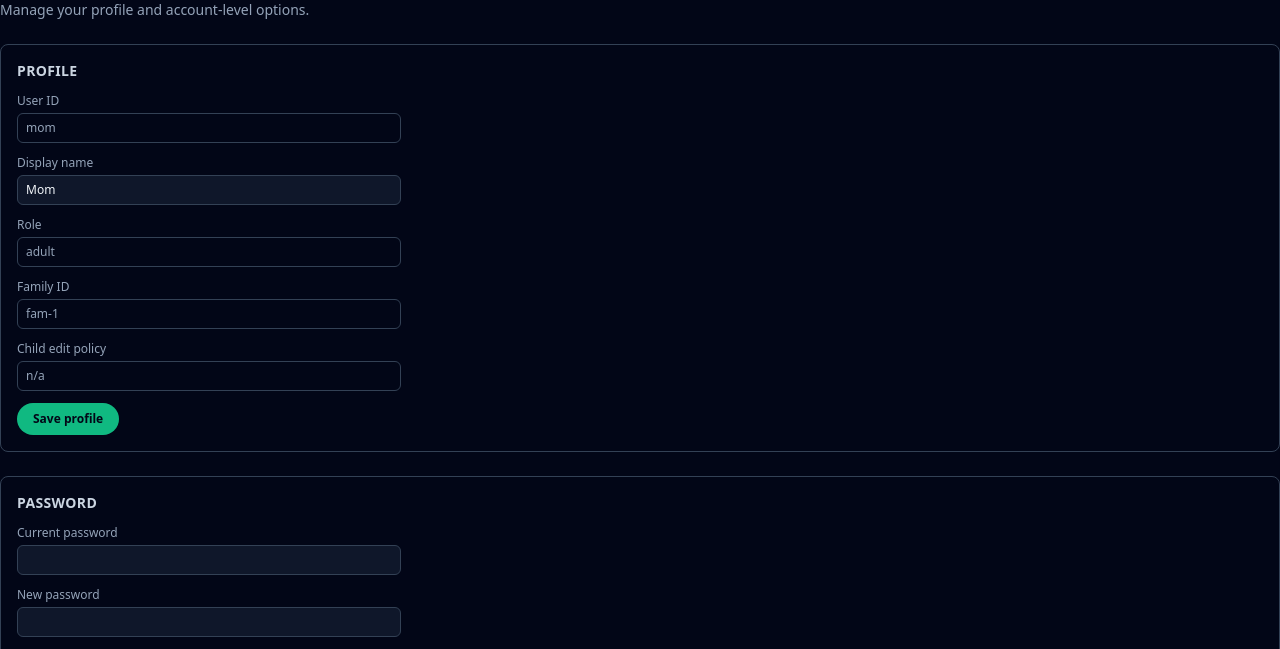
AccountPage › supports password updates with matching confirmation
This screenshot has width=1280, height=649.
Expected: the field showing "mom" is shown, x1=17 y1=113 x2=401 y2=143
Step 1. Type "oldpass" into the password field labelled "Current password" → (209, 560), box x1=17 y1=545 x2=401 y2=575
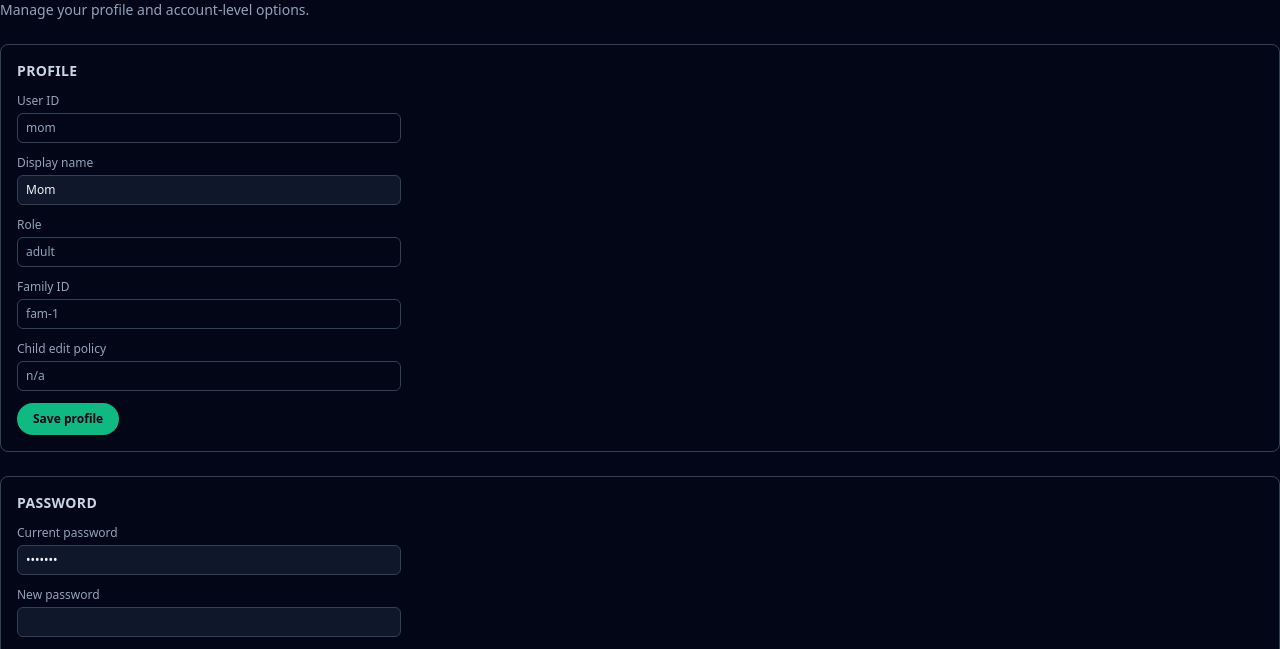
Step 2. Type "newpassword" into the password field labelled "New password" → (209, 622), box x1=17 y1=607 x2=401 y2=637
(page scrolled)
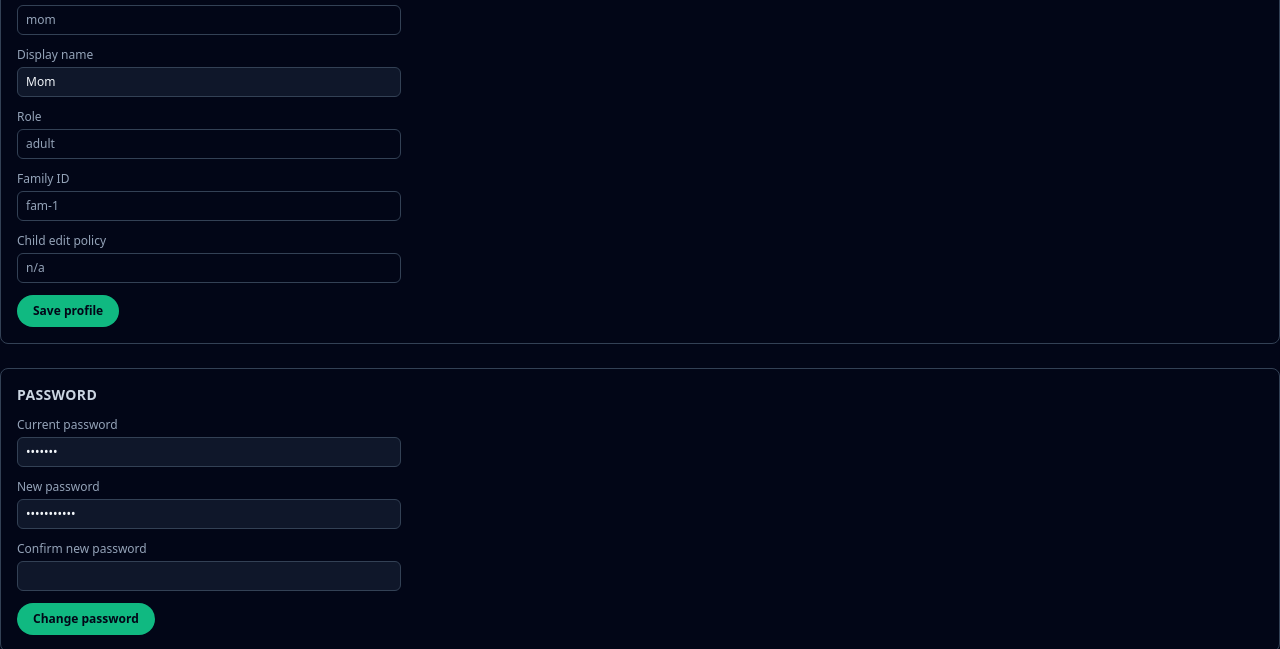
Step 3. Type "newpassword" into the password field labelled "Confirm new password" → (209, 576), box x1=17 y1=561 x2=401 y2=591
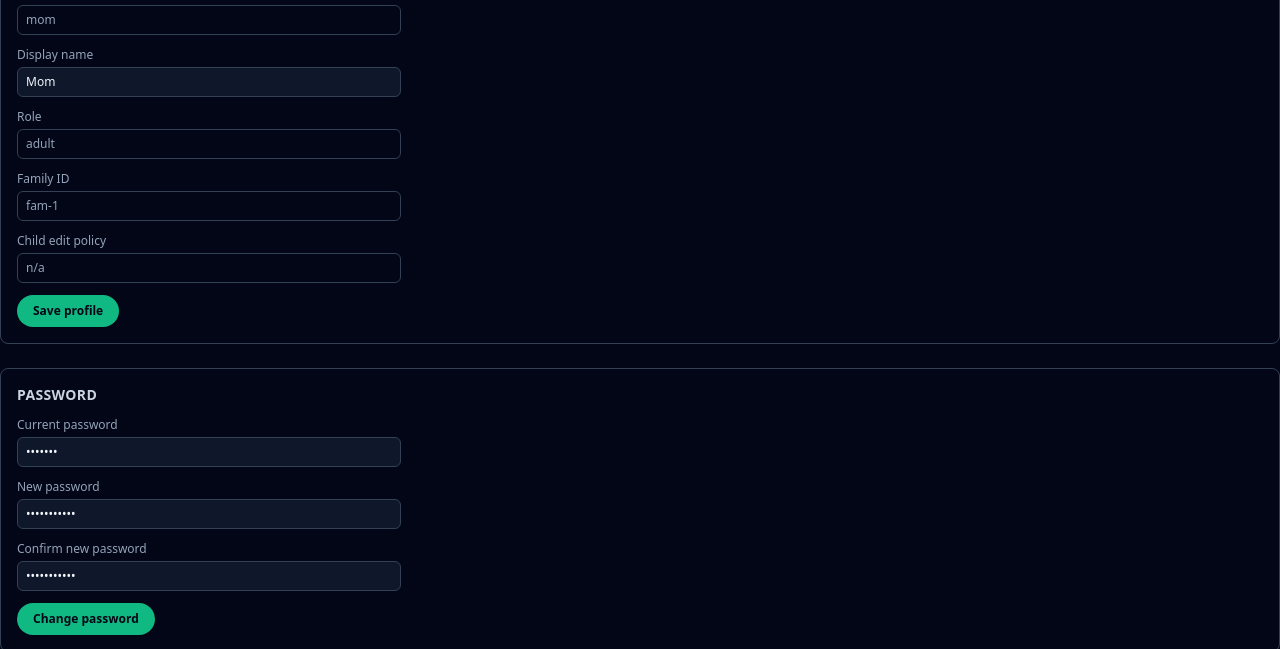
Step 4. Click the button "Change password" → (86, 619), box x1=17 y1=603 x2=155 y2=635
(page scrolled)
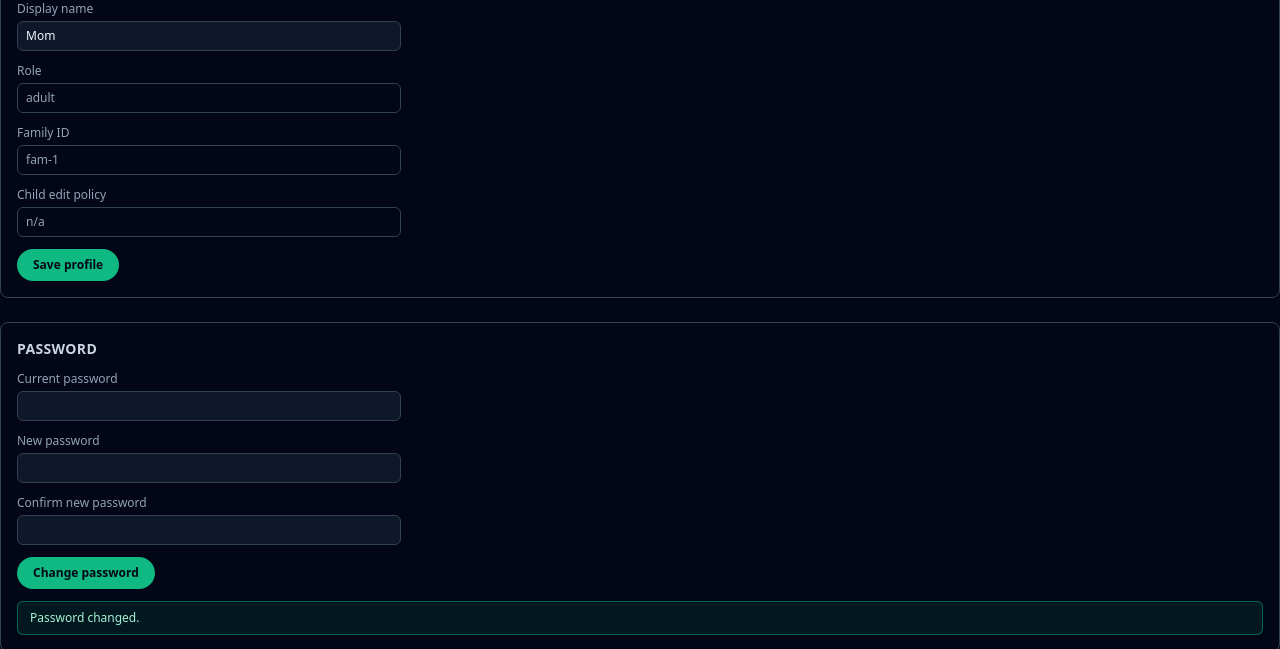
Now the text "Password changed." is shown, box x1=17 y1=601 x2=1263 y2=635
